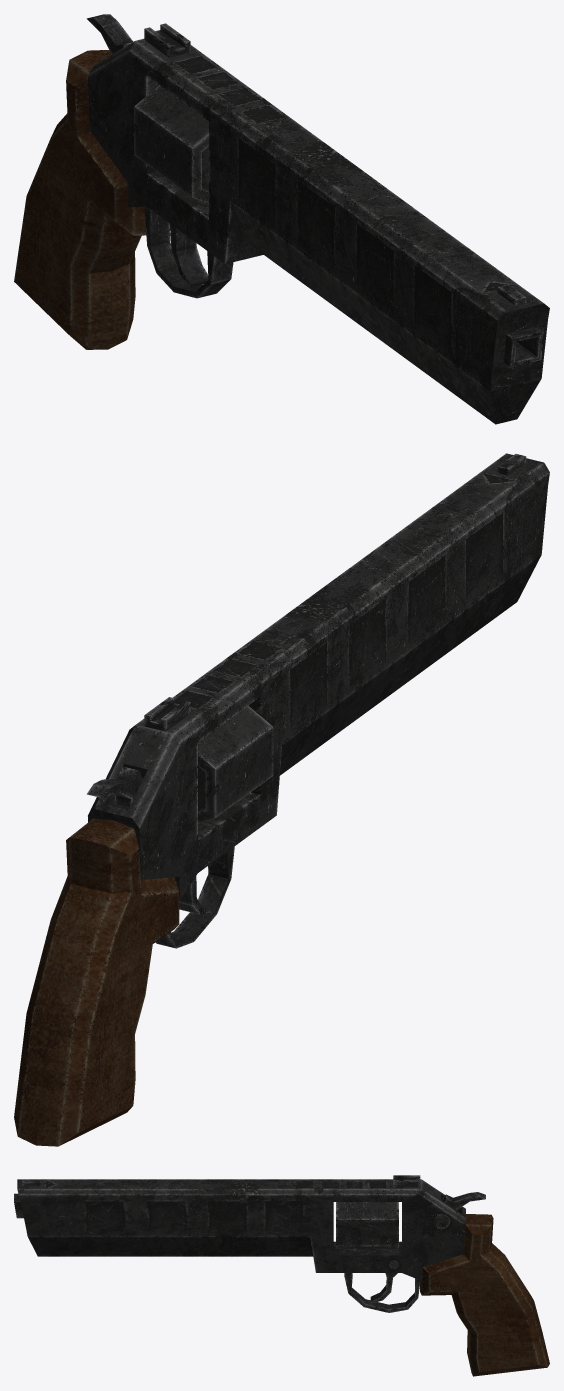
File: Revolver.fbx
The picture shows the model from 3 angles, top to bottom: view 1: azimuth 30°, elevation 25°; view 2: azimuth 150°, elevation 25°; view 3: azimuth 270°, elevation 25°; orthographic projection. The views are drawn at different scales.
Visible parts, largest first — view 1: Revolver; view 2: Revolver; view 3: Revolver.
Boxes of the visible parts, x1,y1,x2,y2 form: Revolver: (14, 14, 549, 424); Revolver: (14, 453, 549, 1146); Revolver: (14, 1175, 549, 1376).
Bounding box in the file's own units: 13.62 × 57.51 × 143.
